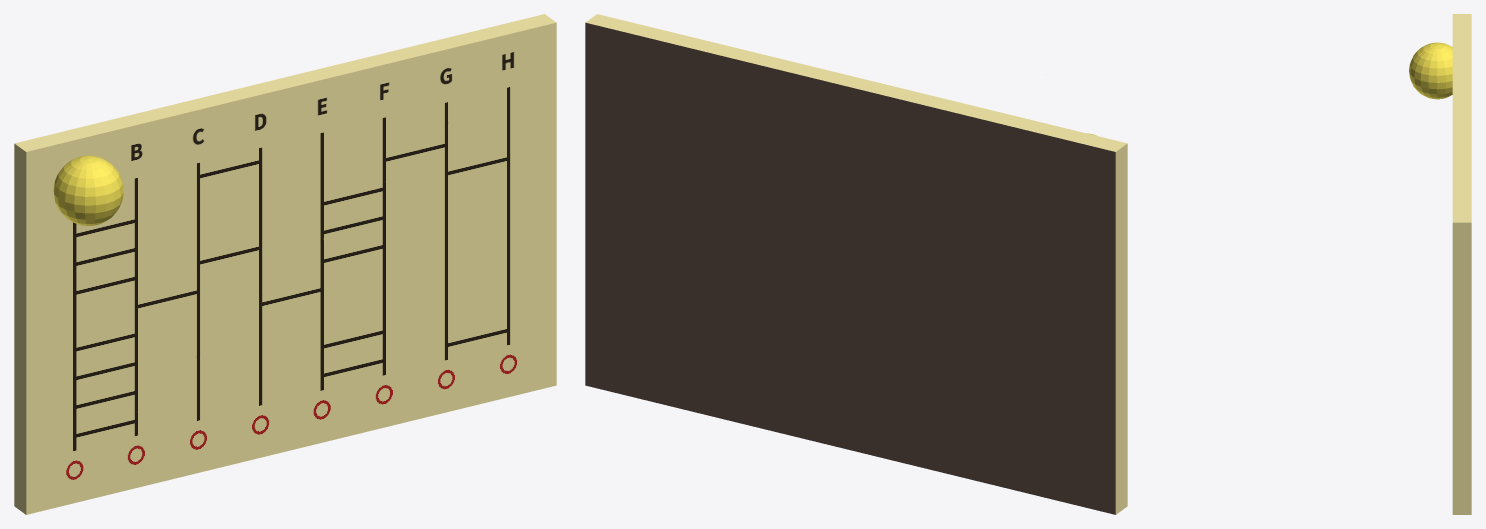
File: amida_4tou_3d.glb
The picture shows the model from 3 angles, left to right: view 1: azimuth 30°, elevation 25°; view 2: azimuth 150°, elevation 25°; view 3: azimuth 270°, elevation 25°; orthographic projection. The views are drawn at different scales.
Parts seen in each view (by area): view 1: amida_board, amida_token; view 2: amida_board; view 3: amida_board, amida_token.
Boxes of the visible parts, box(x1,y1,x2,y2) form: amida_board: box(14, 14, 556, 514); amida_token: box(53, 155, 123, 225); amida_board: box(585, 14, 1127, 514); amida_board: box(1452, 14, 1471, 514); amida_token: box(1409, 42, 1452, 99).
Bounding box in the file's own units: 1.3 × 0.85 × 0.83.
Materials: 4 (2 with a texture image).
